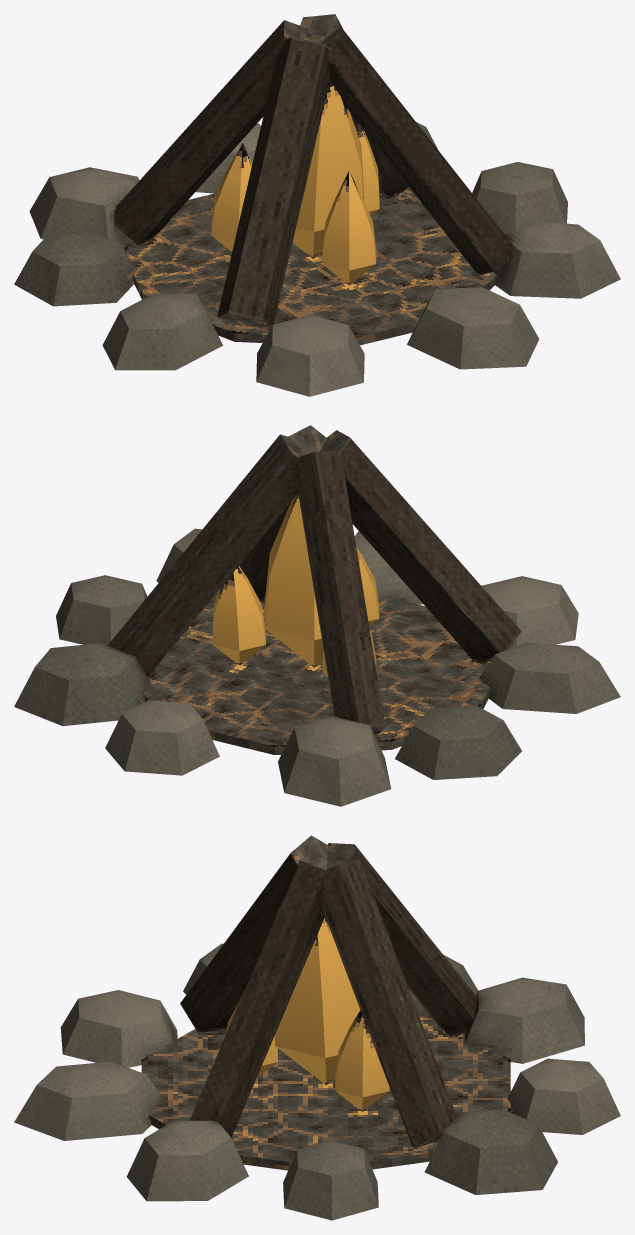
Rendered from Campfire_01.glb.
3 views of the same model, one above another, from view 1: azimuth 30°, elevation 25°; view 2: azimuth 150°, elevation 25°; view 3: azimuth 270°, elevation 25° (orthographic).
Visible parts, largest first — view 1: Campfire_01; view 2: Campfire_01; view 3: Campfire_01.
Boxes of the visible parts, x1=… form: Campfire_01: x1=14, y1=14, x2=620, y2=396; Campfire_01: x1=14, y1=425, x2=620, y2=806; Campfire_01: x1=14, y1=835, x2=620, y2=1220.
Size of the model in its own units: 0.9436 by 0.4276 by 0.9624.
1 material, 1 textured.
